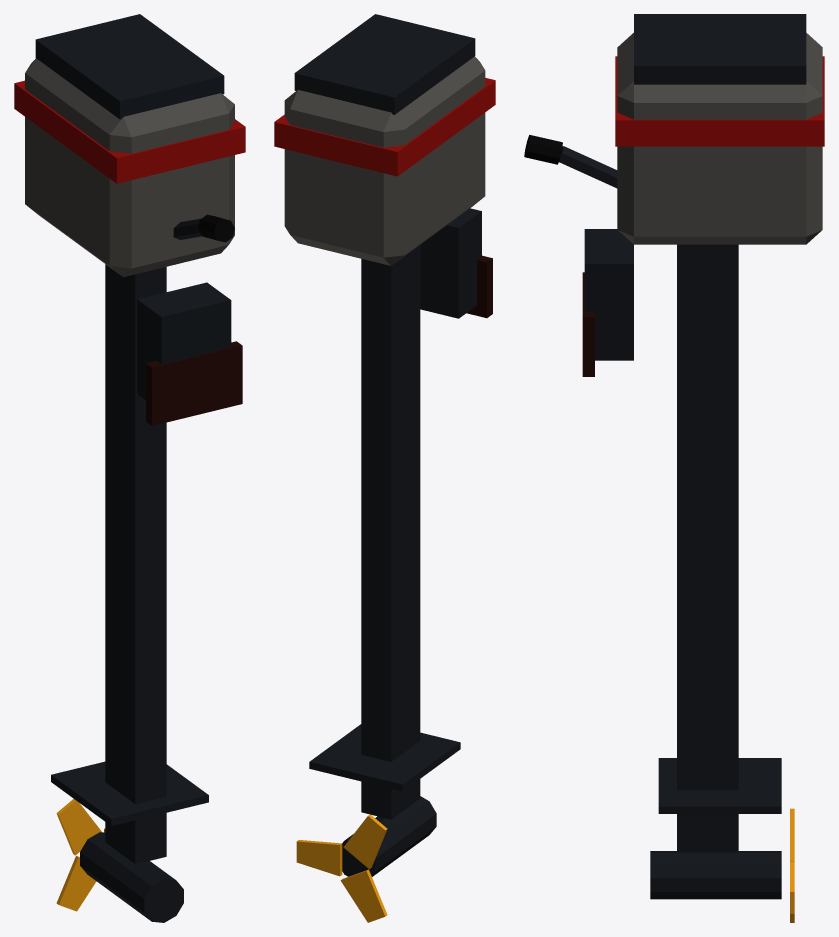
Rendered from tb_upg_outboard.glb.
3 renders of one model, left to right at view 1: azimuth 30°, elevation 25°; view 2: azimuth 150°, elevation 25°; view 3: azimuth 270°, elevation 25°, orthographic. The views are drawn at different scales.
Visible parts, largest first — view 1: tb_upg_outboard_mesh; view 2: tb_upg_outboard_mesh; view 3: tb_upg_outboard_mesh.
Part boxes in pixels (box(x1,y1,x2,y2)): tb_upg_outboard_mesh: box(14, 14, 245, 922); tb_upg_outboard_mesh: box(274, 14, 495, 922); tb_upg_outboard_mesh: box(524, 14, 824, 922).
Bounding box in the file's own units: 0.37 × 2.4 × 0.7323.
